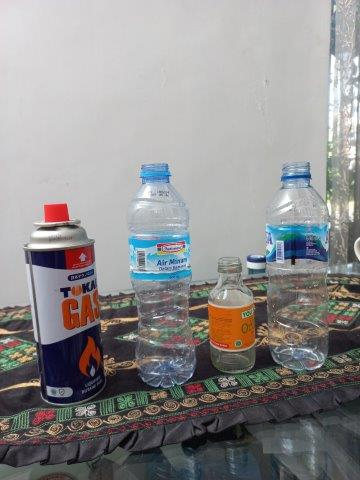botolkaca: (207, 258, 256, 374)
botolplastik: (128, 165, 196, 386), (265, 162, 331, 373)
kaleng: (25, 203, 104, 405)
